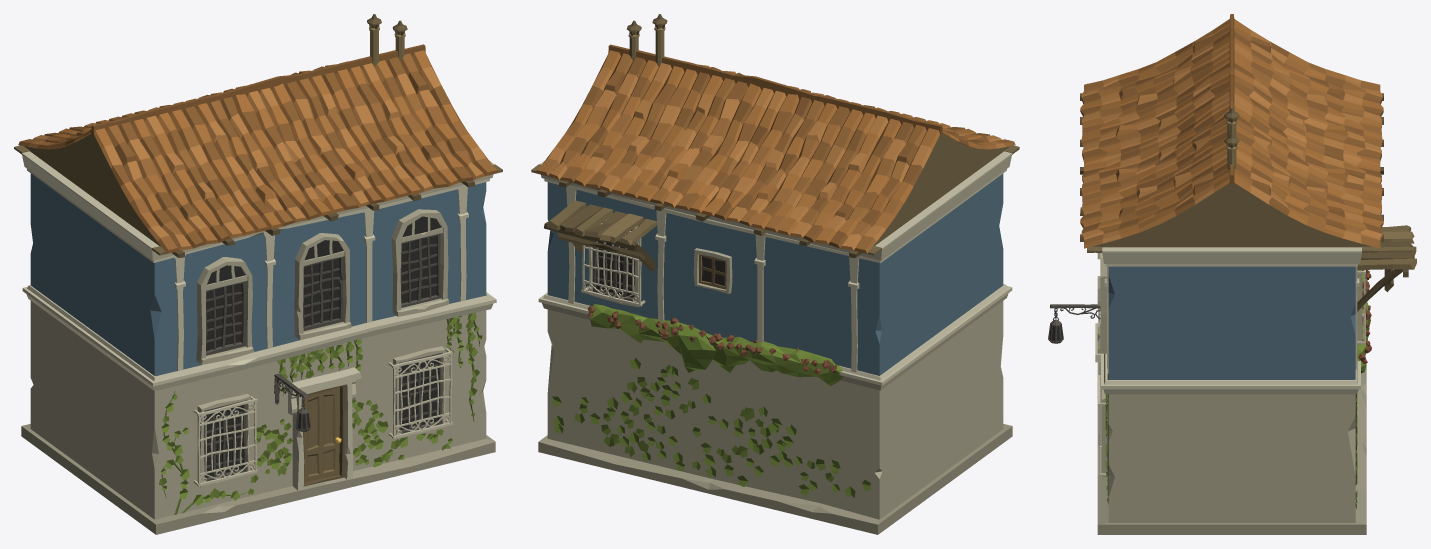
Rendered from Building_7.fbx.
3 views of the same model, side by side, from view 1: azimuth 30°, elevation 25°; view 2: azimuth 150°, elevation 25°; view 3: azimuth 270°, elevation 25° (orthographic).
Parts seen in each view (by area): view 1: Building_7; view 2: Building_7; view 3: Building_7.
Part boxes in pixels (bbox=[...]): Building_7: bbox=[14, 14, 502, 534]; Building_7: bbox=[531, 14, 1019, 534]; Building_7: bbox=[1048, 14, 1416, 534].
Bounding box in the file's own units: 882 × 983 × 821.
